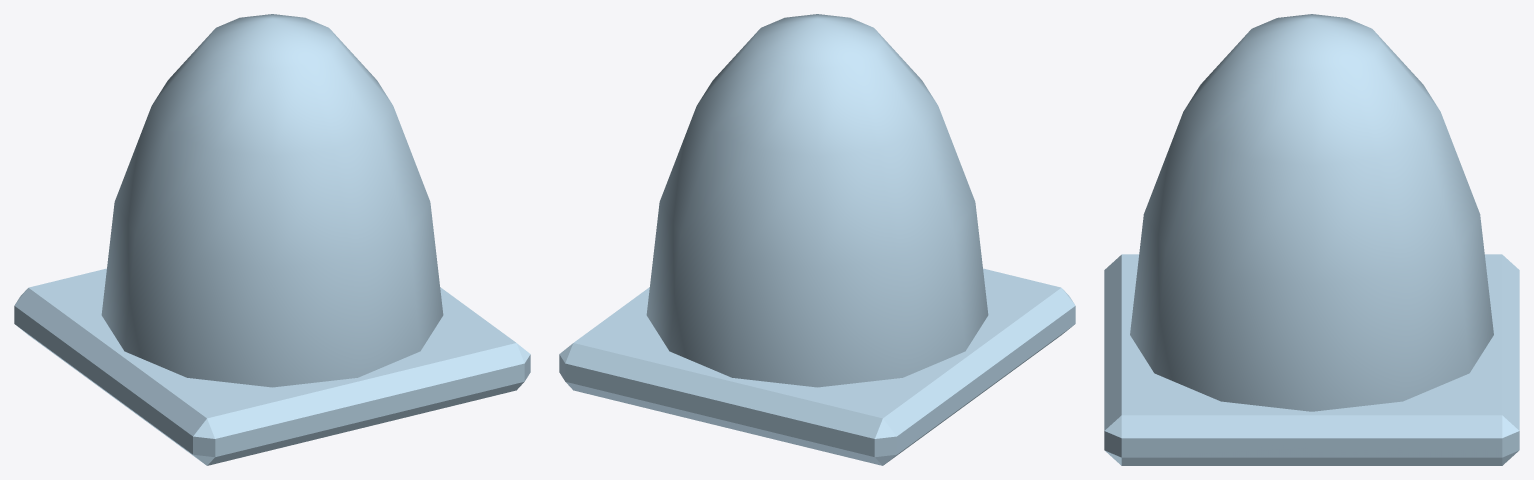
File: R4B_Dome.glb
3 renders of one model, left to right at view 1: azimuth 30°, elevation 25°; view 2: azimuth 150°, elevation 25°; view 3: azimuth 270°, elevation 25°, orthographic. The views are drawn at different scales.
Visible parts, largest first — view 1: R4B_Dome; view 2: R4B_Dome; view 3: R4B_Dome.
Part boxes in pixels (box(x1,y1,x2,y2)): R4B_Dome: box(14, 14, 530, 465); R4B_Dome: box(559, 14, 1075, 465); R4B_Dome: box(1104, 14, 1519, 465).
Bounding box in the file's own units: 0.52 × 0.506 × 0.52.
